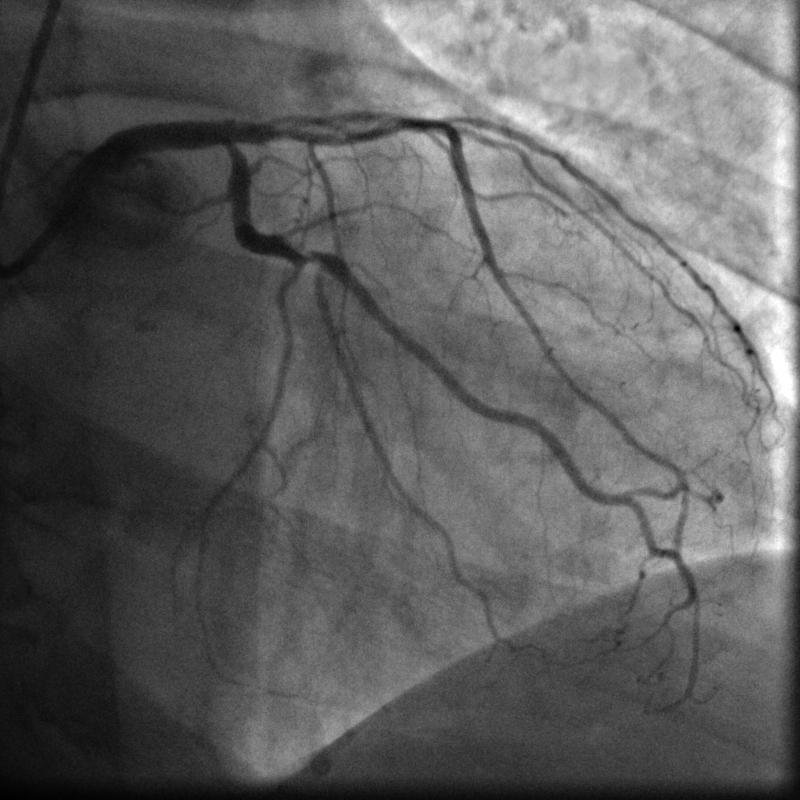Stenosis: (293, 241, 322, 263)
